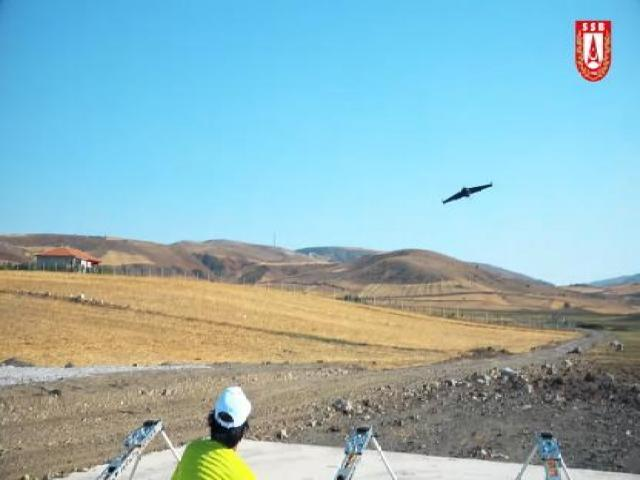uav: (438, 180, 494, 207)
